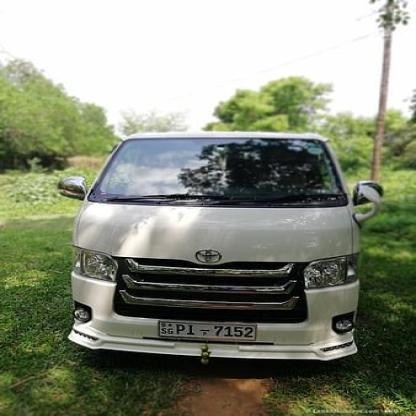number plate: (157, 315, 260, 345)
van front: (58, 125, 384, 377)
